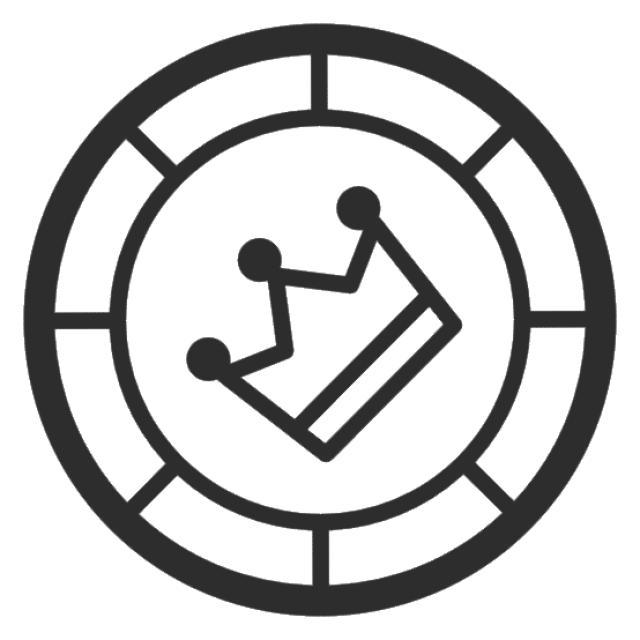coin: (15, 12, 628, 630)
